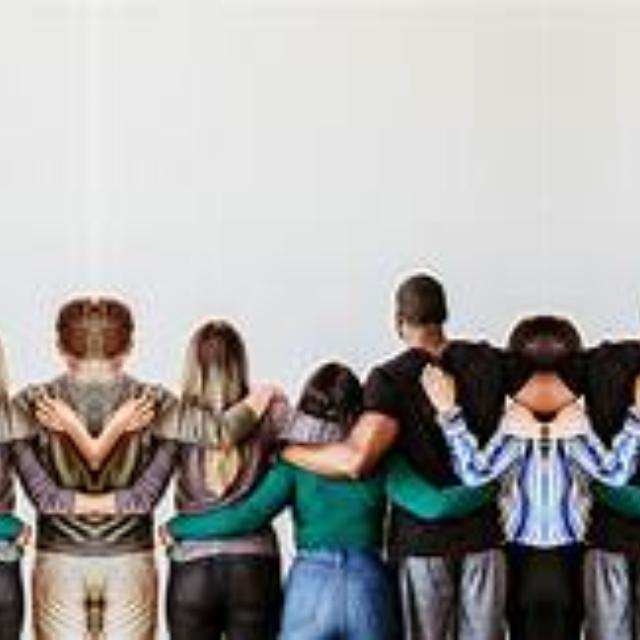person: (374, 258, 506, 634), (167, 309, 296, 640), (284, 352, 382, 640), (581, 257, 640, 634), (94, 282, 160, 614), (28, 282, 94, 614), (0, 309, 20, 640)
